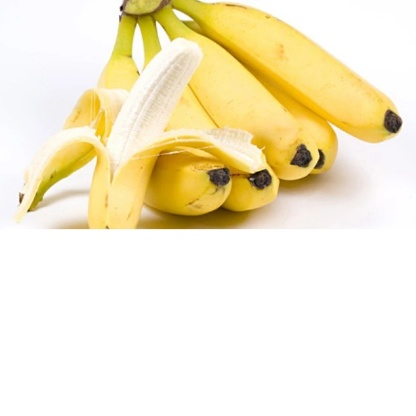chuoi: (14, 3, 411, 231)
